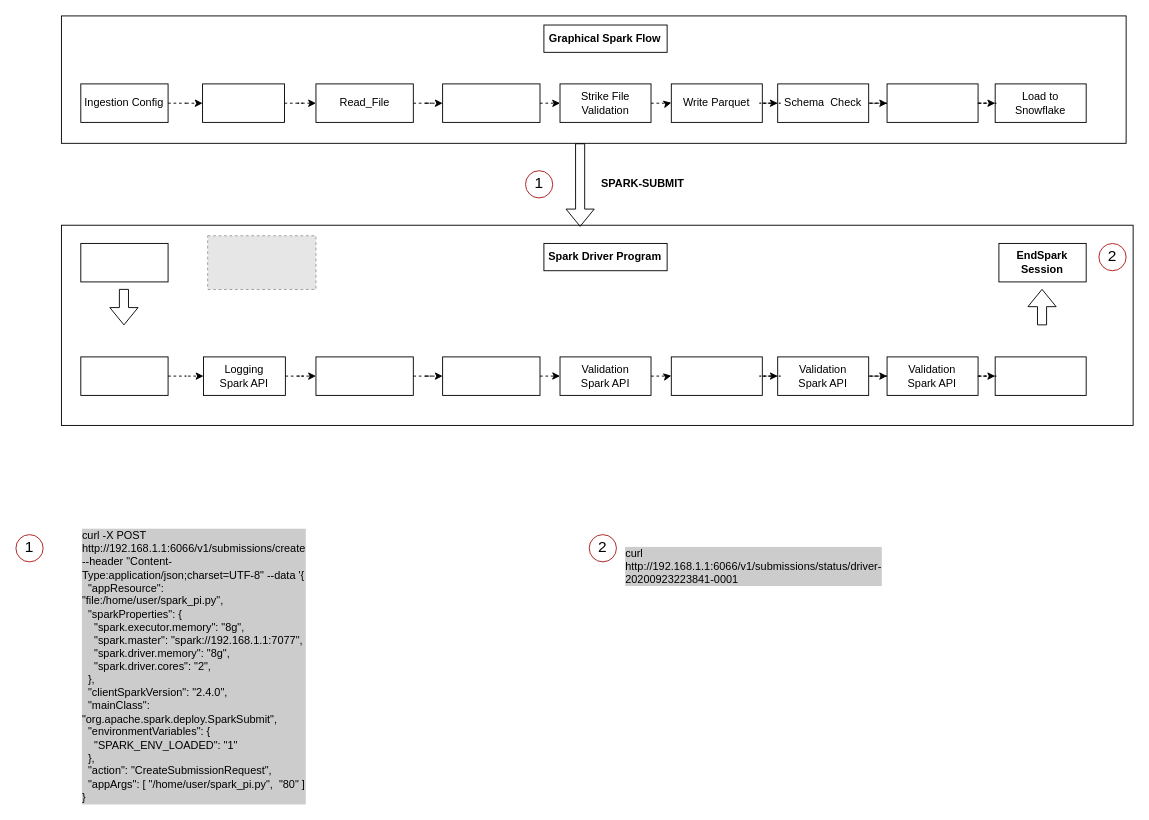
Image size: 1149x820. Some labels were removed from this diagram. Grey dashed boxes stand in for pictures. The box of each missing label's shape, as (x1, y1, x2, y2) in pixels:
ABC Checks: (886, 83, 978, 122)
Date Calculation Spark API: (442, 356, 540, 395)
Get Business Date: (442, 83, 540, 122)
Init Logging: (202, 83, 284, 122)
Load Data Spark API: (994, 356, 1086, 395)
Metadata Spark API: (80, 356, 168, 395)
Reader Spark API: (315, 356, 413, 395)
Start Spark Session: (80, 243, 168, 282)
Writer Spark API: (670, 356, 762, 395)
